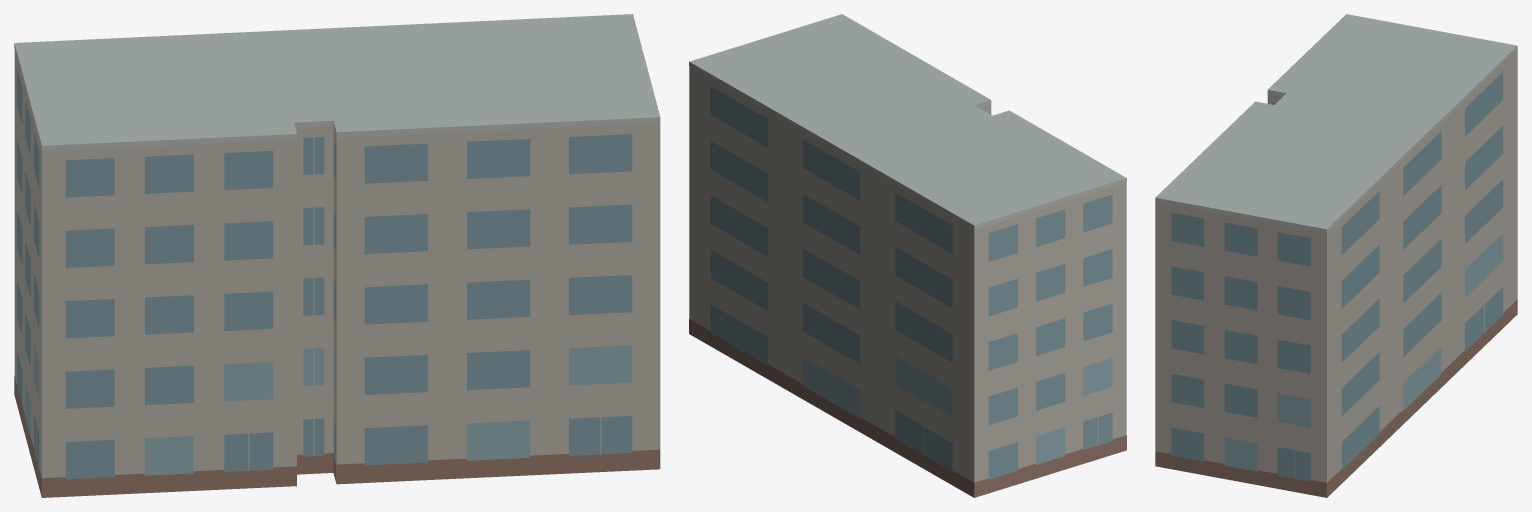
Rendered from survey-upis-32656532.glb.
3 views of the same model, side by side, from view 1: azimuth 30°, elevation 25°; view 2: azimuth 150°, elevation 25°; view 3: azimuth 270°, elevation 25° (orthographic). The views are drawn at different scales.
Visible parts, largest first — view 1: survey-upis-32656532.tmp; view 2: survey-upis-32656532.tmp; view 3: survey-upis-32656532.tmp.
Boxes of the visible parts, x1,y1,x2,y2 form: survey-upis-32656532.tmp: [14, 14, 660, 497]; survey-upis-32656532.tmp: [689, 14, 1126, 497]; survey-upis-32656532.tmp: [1155, 14, 1517, 497].
Bounding box in the file's own units: 27.17 × 15.8 × 19.33.
